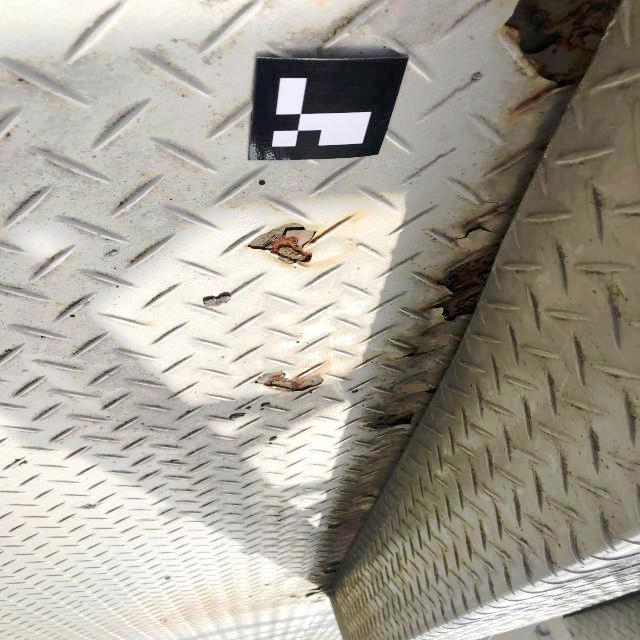Corrosion: (507, 0, 622, 109), (423, 251, 497, 322), (248, 223, 316, 269), (256, 372, 324, 392), (367, 412, 415, 430), (450, 226, 491, 239), (323, 560, 344, 575), (404, 348, 432, 358), (426, 388, 438, 396), (362, 493, 378, 499), (328, 524, 343, 530)
